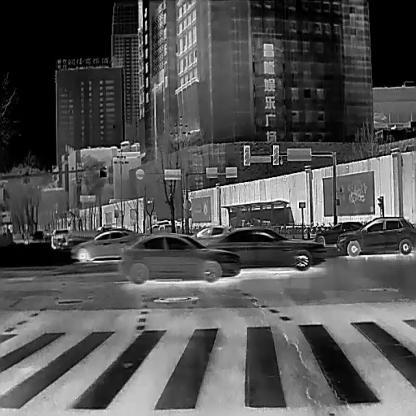car: (119, 231, 240, 284), (207, 225, 327, 271), (335, 214, 414, 256), (70, 226, 144, 262), (314, 220, 364, 245), (188, 224, 232, 250), (50, 226, 70, 248)
